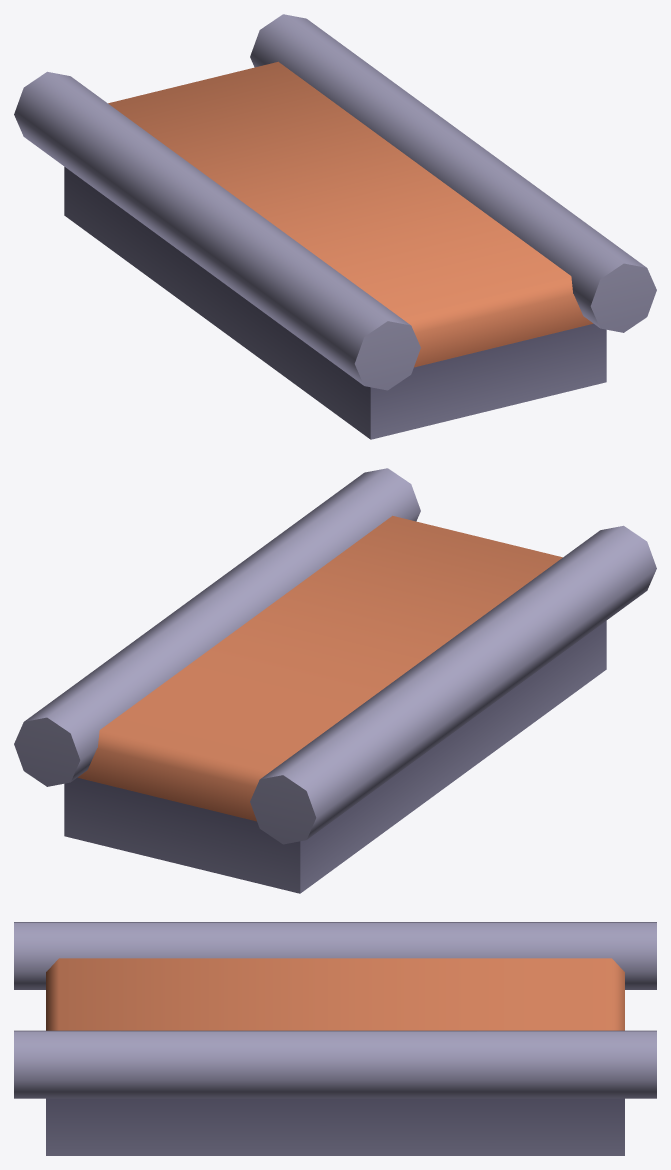
The model's file is obstacle-box-grind.fbx.
3 renders of one model, top to bottom at view 1: azimuth 30°, elevation 25°; view 2: azimuth 150°, elevation 25°; view 3: azimuth 270°, elevation 25°, orthographic. The views are drawn at different scales.
Parts seen in each view (by area): view 1: obstacle-box-grind; view 2: obstacle-box-grind; view 3: obstacle-box-grind.
Part boxes in pixels (bbox=[...]): obstacle-box-grind: bbox=[14, 14, 656, 439]; obstacle-box-grind: bbox=[14, 468, 656, 893]; obstacle-box-grind: bbox=[14, 922, 656, 1155].
Size of the model in its own units: 51.25 by 21.25 by 100.
Materials: 1 (1 with a texture image).
